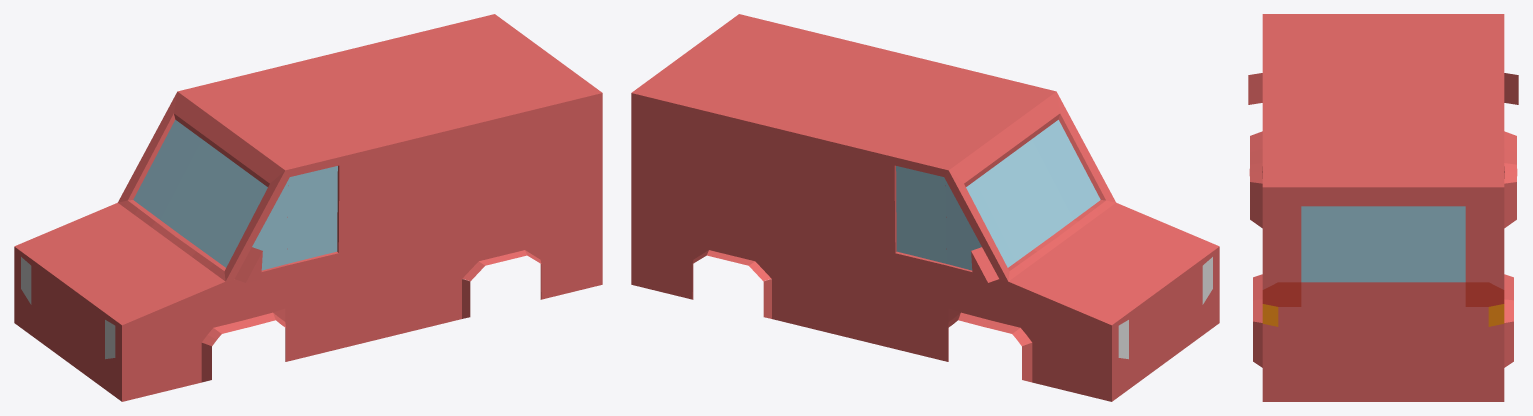
Rendered from red DigiVan.fbx.
3 renders of one model, left to right at view 1: azimuth 30°, elevation 25°; view 2: azimuth 150°, elevation 25°; view 3: azimuth 270°, elevation 25°, orthographic. The views are drawn at different scales.
Visible parts, largest first — view 1: Cube; view 2: Cube; view 3: Cube.
Boxes of the visible parts, left/top/right/bottom form: Cube: left=14, top=14, right=602, bottom=401; Cube: left=631, top=14, right=1219, bottom=401; Cube: left=1248, top=14, right=1518, bottom=401.
Size of the model in its own units: 952 by 363 by 414.
